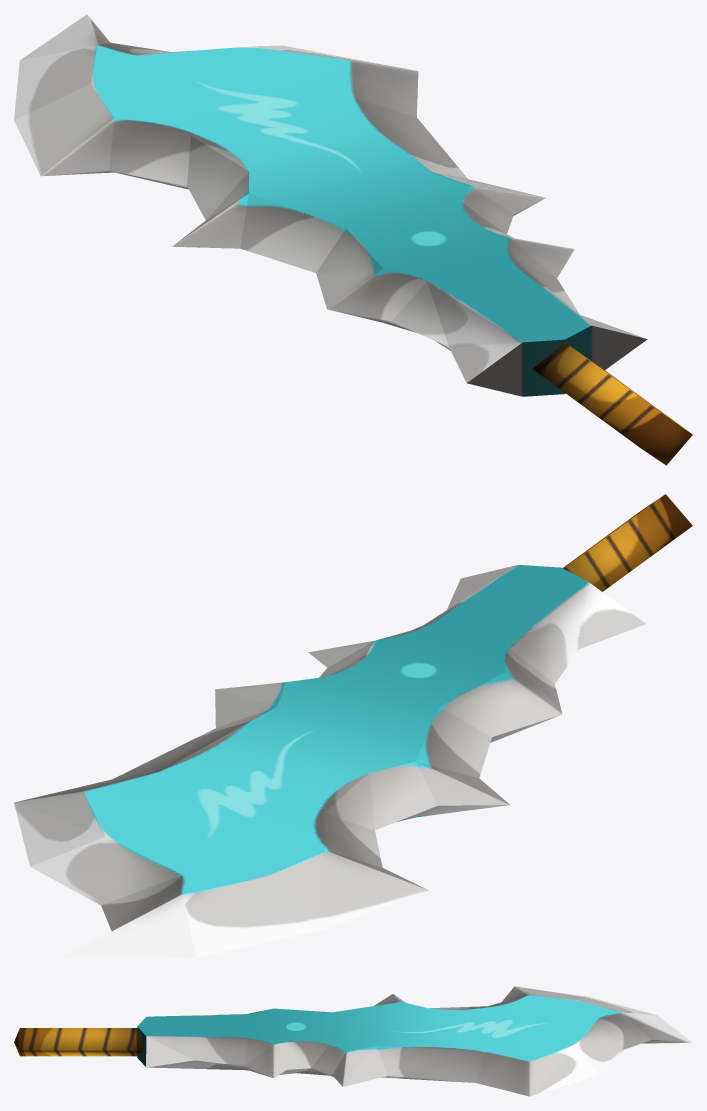
Rendered from Sword_07.FBX.
The picture shows the model from 3 angles, top to bottom: view 1: azimuth 30°, elevation 25°; view 2: azimuth 150°, elevation 25°; view 3: azimuth 270°, elevation 25°; orthographic projection. The views are drawn at different scales.
Visible parts, largest first — view 1: Sword_07; view 2: Sword_07; view 3: Sword_07.
Part boxes in pixels (x1,y1,x2,y2): Sword_07: (14, 14, 692, 465); Sword_07: (14, 494, 692, 957); Sword_07: (14, 986, 692, 1096).
Size of the model in its own units: 0.8921 by 0.1187 by 2.32.
